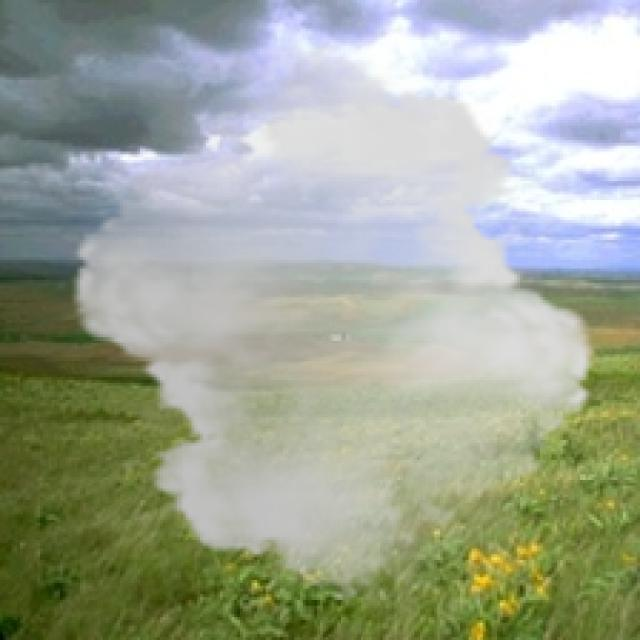smoke: (51, 46, 614, 603)
